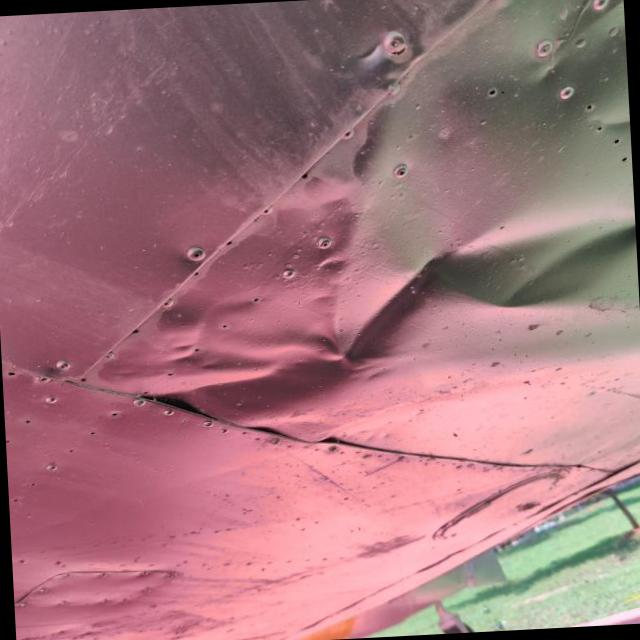Dent: (90, 90, 640, 459)
